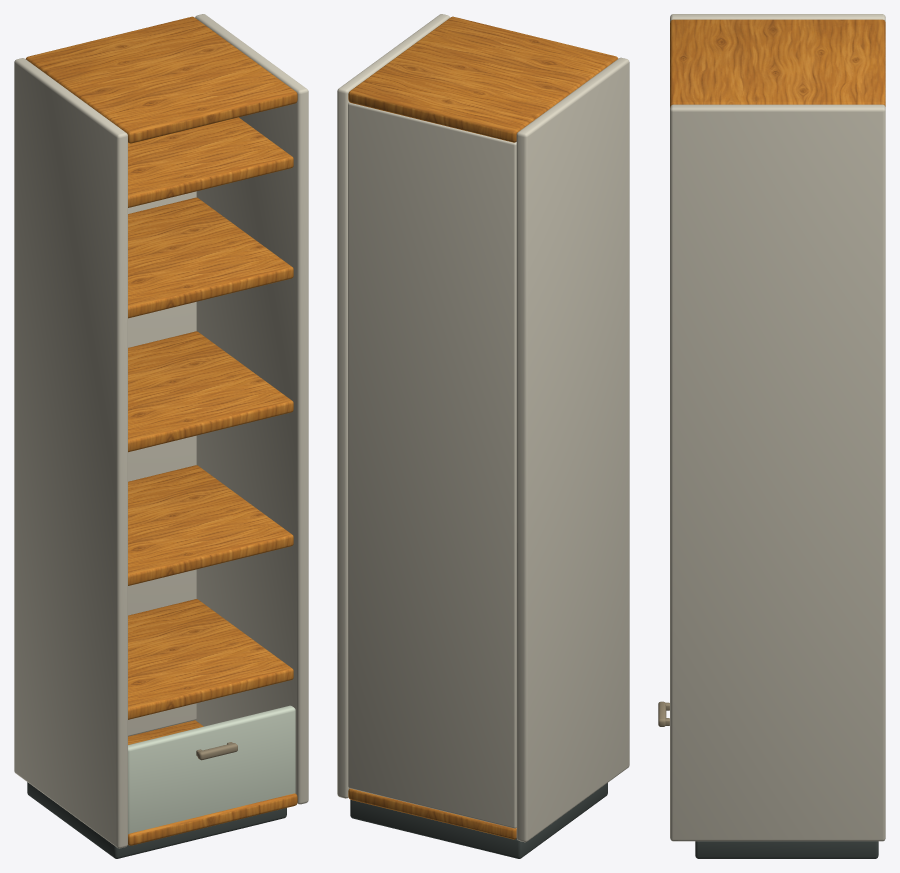
Rendered from closet-shelf-module.glb.
The picture shows the model from 3 angles, left to right: view 1: azimuth 30°, elevation 25°; view 2: azimuth 150°, elevation 25°; view 3: azimuth 270°, elevation 25°; orthographic projection. The views are drawn at different scales.
Parts seen in each view (by area): view 1: closet-shelf-module; view 2: closet-shelf-module; view 3: closet-shelf-module.
Boxes of the visible parts, bbox=[...] form: closet-shelf-module: bbox=[14, 14, 308, 858]; closet-shelf-module: bbox=[337, 14, 629, 858]; closet-shelf-module: bbox=[658, 14, 885, 858].
Bounding box in the file's own units: 0.6 × 2.2 × 0.6.
5 materials, 1 textured.
